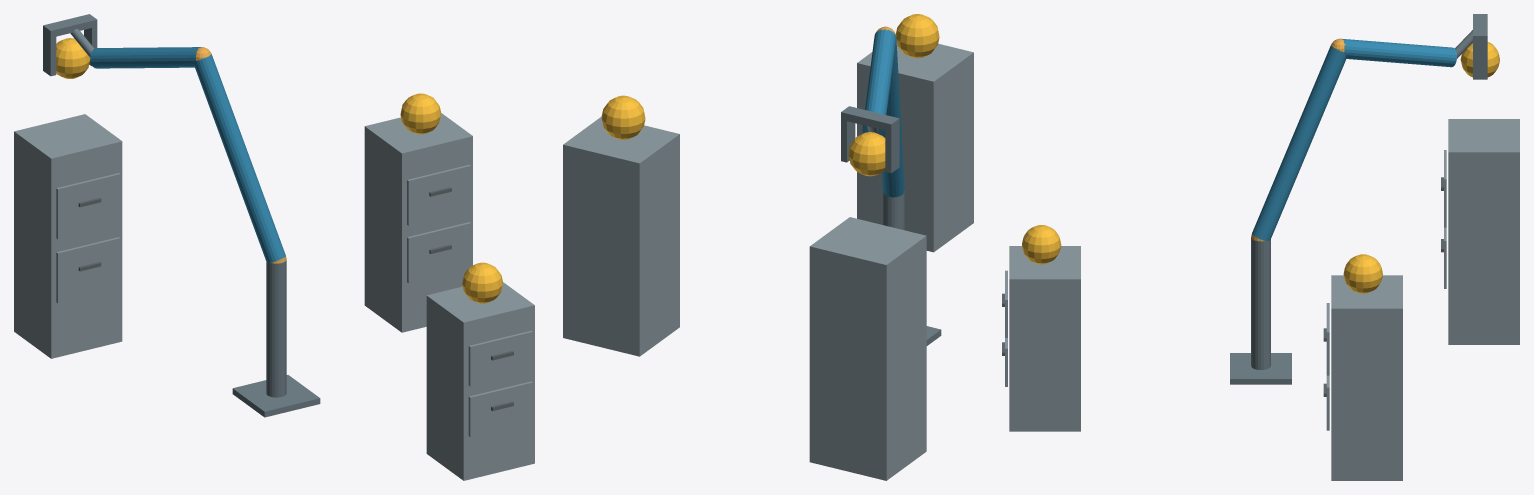
The picture shows the model from 3 angles, left to right: view 1: azimuth 30°, elevation 25°; view 2: azimuth 150°, elevation 25°; view 3: azimuth 270°, elevation 25°; orthographic projection. The views are drawn at different scales.
Parts seen in each view (by area): view 1: cabinet_3 body, cabinet_2 body, cabinet_1 body, moving link 1, cabinet_3 drawer front, cabinet_3 drawer front.001, cabinet_2 drawer front.001, cabinet_2 drawer front, fixed post, cabinet_1 drawer front.001, cabinet_1 drawer front, moving link 2 (+6 smaller); view 2: cabinet_3 body, cabinet_2 body, cabinet_1 body, moving link 2, released ball_2, released ball_1, moving link 1, ball ball_3, gripper bridge, fixed post, gripper finger -1, gripper finger 1; view 3: cabinet_3 body, cabinet_2 body, cabinet_1 body, moving link 1, fixed post, moving link 2, pedestal, released ball_1, released ball_2, ball ball_3, gripper finger 1.
Part boxes in pixels (left/top/right/bottom): cabinet_3 body: left=14, top=114, right=122, bottom=358; cabinet_2 body: left=364, top=113, right=472, bottom=332; cabinet_1 body: left=426, top=282, right=534, bottom=480; moving link 1: left=194, top=54, right=285, bottom=262; cabinet_3 drawer front: left=56, top=237, right=120, bottom=303; cabinet_3 drawer front.001: left=56, top=173, right=120, bottom=239; cabinet_2 drawer front.001: left=407, top=164, right=471, bottom=225; cabinet_2 drawer front: left=407, top=222, right=471, bottom=283; fixed post: left=266, top=260, right=286, bottom=397; cabinet_1 drawer front.001: left=468, top=330, right=532, bottom=386; cabinet_1 drawer front: left=468, top=381, right=532, bottom=437; moving link 2: left=90, top=47, right=200, bottom=68; cabinet_3 body: left=809, top=217, right=926, bottom=480; cabinet_2 body: left=563, top=116, right=679, bottom=356; cabinet_1 body: left=857, top=41, right=973, bottom=252; moving link 2: left=862, top=29, right=896, bottom=135; released ball_2: left=601, top=95, right=645, bottom=139; released ball_1: left=895, top=14, right=939, bottom=58; moving link 1: left=882, top=35, right=904, bottom=197; ball ball_3: left=848, top=132, right=885, bottom=176; gripper bridge: left=841, top=106, right=899, bottom=131; fixed post: left=883, top=191, right=904, bottom=230; gripper finger -1: left=885, top=126, right=899, bottom=173; gripper finger 1: left=841, top=120, right=855, bottom=162; cabinet_3 body: left=1448, top=119, right=1519, bottom=344; cabinet_2 body: left=1331, top=275, right=1402, bottom=480; cabinet_1 body: left=1009, top=246, right=1080, bottom=431; moving link 1: left=1252, top=45, right=1346, bottom=241; fixed post: left=1251, top=237, right=1270, bottom=369; moving link 2: left=1342, top=39, right=1456, bottom=67; pedestal: left=1230, top=353, right=1291, bottom=384; released ball_1: left=1022, top=225, right=1061, bottom=264; released ball_2: left=1343, top=254, right=1382, bottom=293; ball ball_3: left=1460, top=42, right=1499, bottom=77; gripper finger 1: left=1473, top=42, right=1487, bottom=79.
Size of the model in its own units: 1.62 by 1.41 by 2.1.
